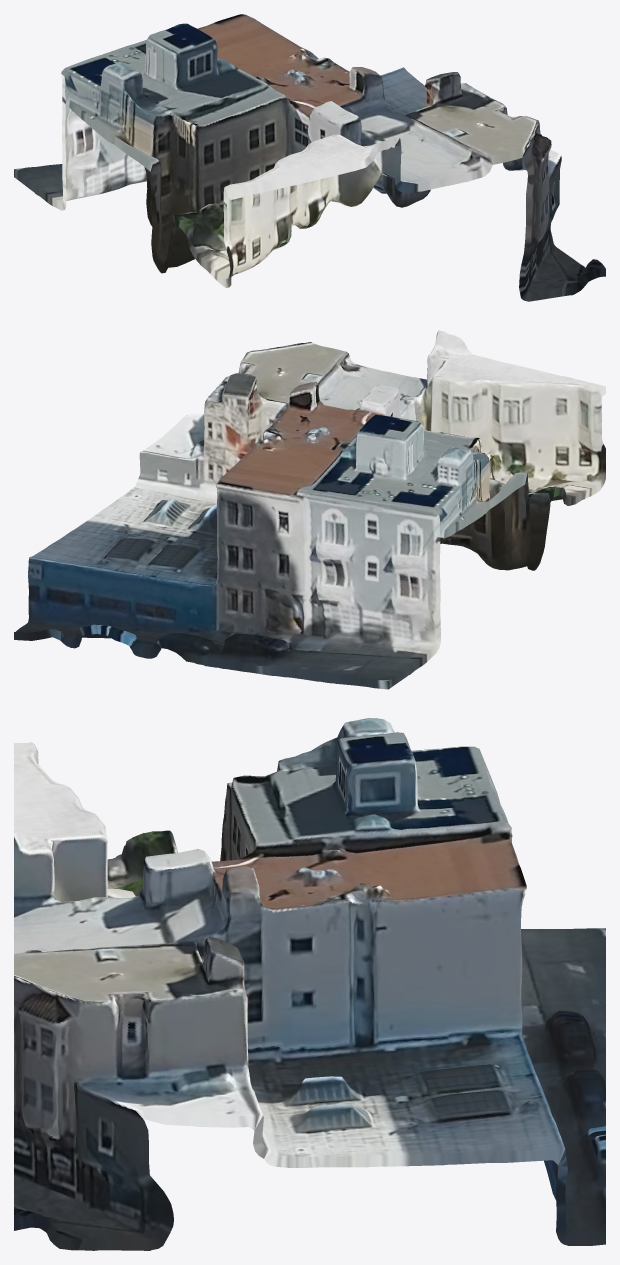
File: z20-167732-405195-h0-yup-uvflip-v3-world.glb
3 renders of one model, top to bottom at view 1: azimuth 30°, elevation 25°; view 2: azimuth 150°, elevation 25°; view 3: azimuth 270°, elevation 25°, orthographic. The views are drawn at different scales.
Bounding box in the file's own units: 30.16 × 17.56 × 30.32.
Materials: 1 (1 with a texture image).
